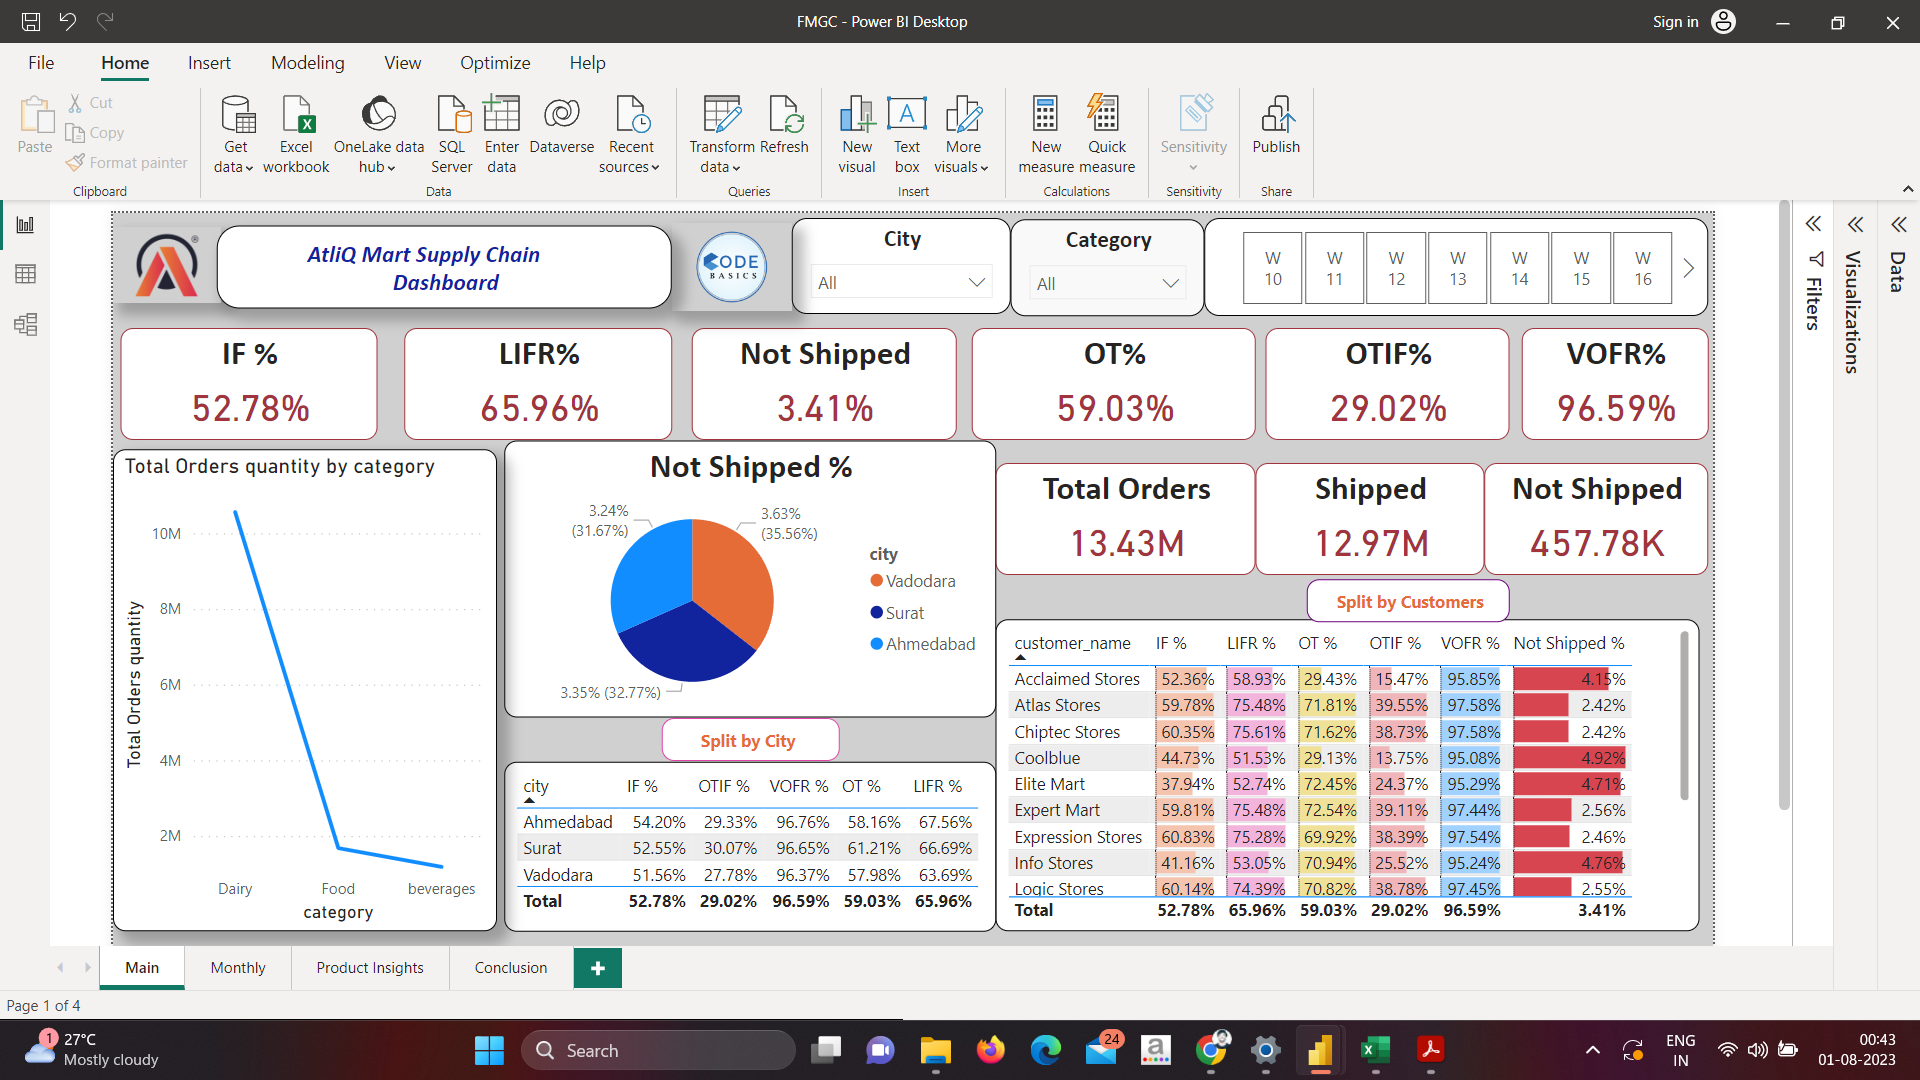

This screenshot's page, from the dashboard's own definition file:
{"tool":"powerbi","page":{"name":"Main","canvas":[1280,720],"ordinal":0},"visuals":[{"type":"tableEx","fields":{"Values":["dim_customers.customer_name","key measure.IF %","key measure.LIFR %","key measure.OT %","key measure.OTIF %","key measure.VOFR %","key measure.Not Shipped %"]},"box":[706,325,563,250],"z":0},{"type":"textbox","box":[955,293,162,35],"z":1000},{"type":"image","box":[0,11,86,61],"z":2000},{"type":"slicer","title":"Category","fields":{"Values":["dim_products.category"]},"box":[718,5,155,78],"z":3000},{"type":"slicer","title":"Week No","fields":{"Values":["dim_date.week_no"]},"box":[873,4,403,79],"z":4000},{"type":"slicer","title":"City","fields":{"Values":["dim_customers.city"]},"box":[543,4,175,77],"z":5000},{"type":"card","title":"IF %","fields":{"Values":["key measure.IF %"]},"box":[6,92,205,90],"z":6000},{"type":"card","title":"LIFR%","fields":{"Values":["key measure.LIFR %"]},"box":[233,92,214,90],"z":7000},{"type":"card","title":"Not Shipped","fields":{"Values":["key measure.Not Shipped %"]},"box":[463,92,212,90],"z":8000},{"type":"card","title":"OT%","fields":{"Values":["key measure.OT %"]},"box":[687,92,227,90],"z":9000},{"type":"card","title":"OTIF%","fields":{"Values":["key measure.OTIF %"]},"box":[922,92,195,90],"z":10000},{"type":"card","title":"VOFR%","fields":{"Values":["key measure.VOFR %"]},"box":[1127,92,149,90],"z":11000},{"type":"card","title":"Not Shipped","fields":{"Values":["key measure.Not Shipped yet"]},"box":[1097,200,179,90],"z":12000},{"type":"card","title":"Shipped","fields":{"Values":["key measure.Total orders quantity shipped"]},"box":[914,200,183,90],"z":13000},{"type":"card","title":"Total Orders","fields":{"Values":["key measure.Total Orders quantity"]},"box":[706,200,208,90],"z":14000},{"type":"tableEx","fields":{"Values":["dim_customers.city","key measure.IF %","key measure.OTIF %","key measure.VOFR %","key measure.OT %","key measure.LIFR %"]},"box":[313,439,393,136],"z":15000},{"type":"textbox","box":[439,404,142,35],"z":16000},{"type":"pieChart","title":"Not Shipped % ","fields":{"Category":["dim_customers.city"],"Y":["key measure.Not Shipped %"]},"box":[313,182,393,222],"z":17000},{"type":"image","box":[447,8,96,71],"z":18000},{"type":"textbox","box":[83,10,364,67],"z":20000},{"type":"lineChart","fields":{"Y":["key measure.Total Orders quantity"],"Category":["dim_products.category"]},"box":[0,189,307,386],"z":20001}]}

Visuals, with their boxes on the page's 1280x720 design canvas (x1, y1, x2, y2). These are canvas units, not pixel positions in the 1920x1080 screenshot, which may show the page scaled, cropped or inside an application window:
tableEx - dim_customers.customer_name x key measure.IF %: pyautogui.locateOnScreen(706, 325, 1269, 575)
textbox: pyautogui.locateOnScreen(955, 293, 1117, 328)
image: pyautogui.locateOnScreen(0, 11, 86, 72)
"Category" slicer: pyautogui.locateOnScreen(718, 5, 873, 83)
"Week No" slicer: pyautogui.locateOnScreen(873, 4, 1276, 83)
"City" slicer: pyautogui.locateOnScreen(543, 4, 718, 81)
"IF %" card: pyautogui.locateOnScreen(6, 92, 211, 182)
"LIFR%" card: pyautogui.locateOnScreen(233, 92, 447, 182)
"Not Shipped" card: pyautogui.locateOnScreen(463, 92, 675, 182)
"OT%" card: pyautogui.locateOnScreen(687, 92, 914, 182)
"OTIF%" card: pyautogui.locateOnScreen(922, 92, 1117, 182)
"VOFR%" card: pyautogui.locateOnScreen(1127, 92, 1276, 182)
"Not Shipped" card: pyautogui.locateOnScreen(1097, 200, 1276, 290)
"Shipped" card: pyautogui.locateOnScreen(914, 200, 1097, 290)
"Total Orders" card: pyautogui.locateOnScreen(706, 200, 914, 290)
tableEx - dim_customers.city x key measure.IF %: pyautogui.locateOnScreen(313, 439, 706, 575)
textbox: pyautogui.locateOnScreen(439, 404, 581, 439)
"Not Shipped % " pieChart: pyautogui.locateOnScreen(313, 182, 706, 404)
image: pyautogui.locateOnScreen(447, 8, 543, 79)
textbox: pyautogui.locateOnScreen(83, 10, 447, 77)
lineChart - key measure.Total Orders quantity x dim_products.category: pyautogui.locateOnScreen(0, 189, 307, 575)
